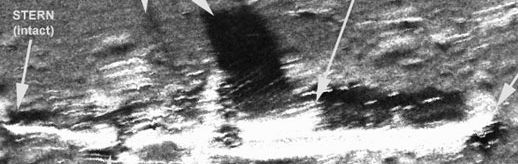ship: (1, 49, 500, 164)
